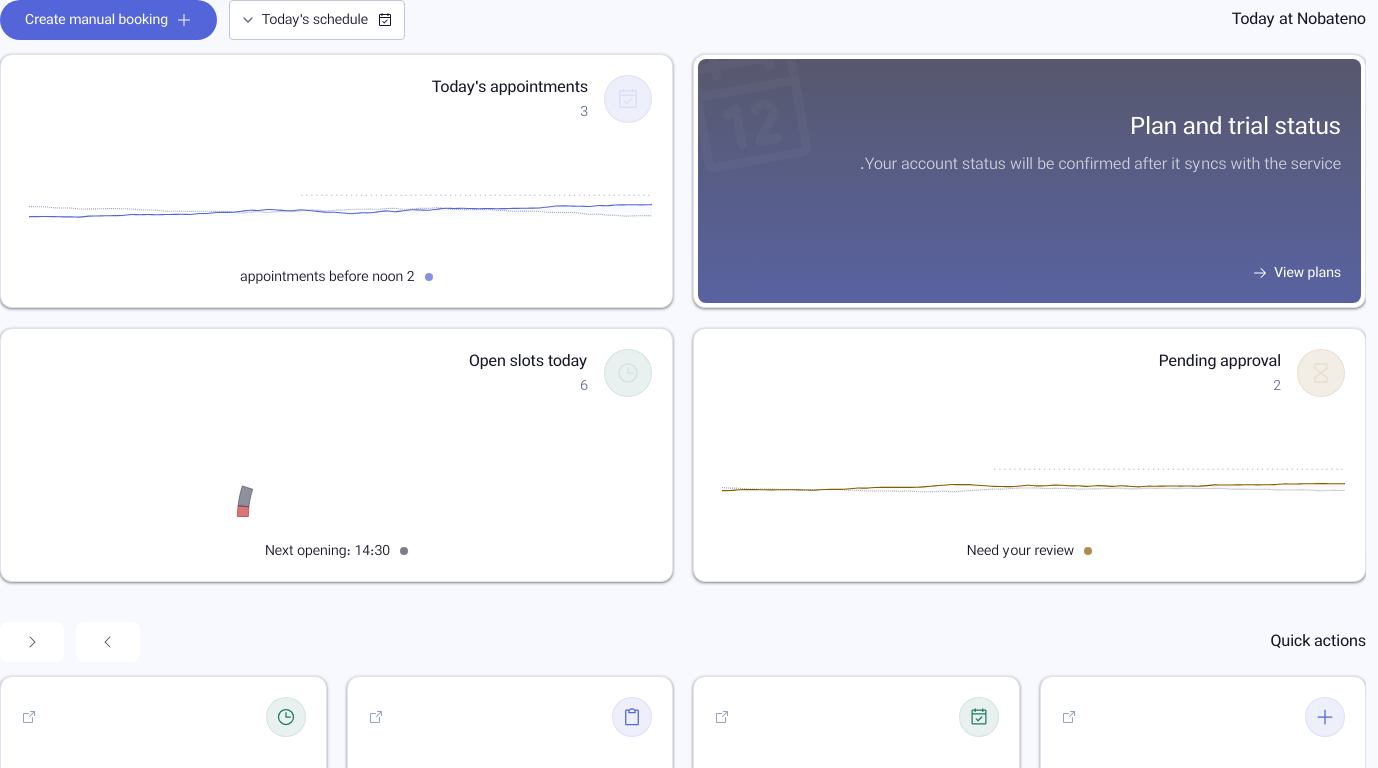
Test case: OverviewPage › shows the provider's daily operational summary and quick routes
The width and height of the screenshot is (1378, 768).
Expected: the heading "Today at Nobateno" is shown, top-left (1232, 8), bottom-right (1366, 32)
Expected: the text "Today's appointments" is shown, top-left (432, 76), bottom-right (588, 100)
Select "Upcoming appointments" in the dropdown named "Today's schedule" at x=317, y=20, box top-left (229, 0), bottom-right (405, 40)
(page scrolled)
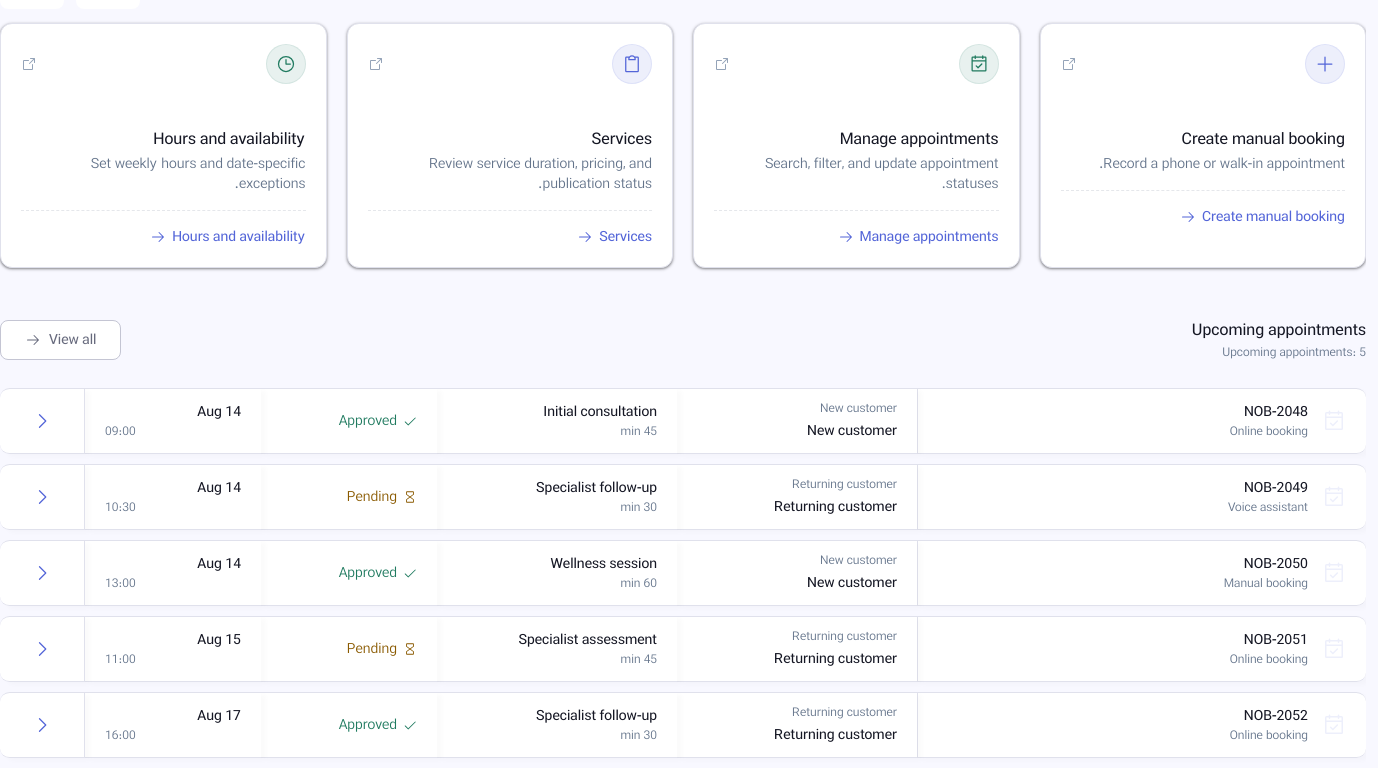
Now the link "NOB-2051" is shown, box top-left (1244, 630), bottom-right (1308, 650)
